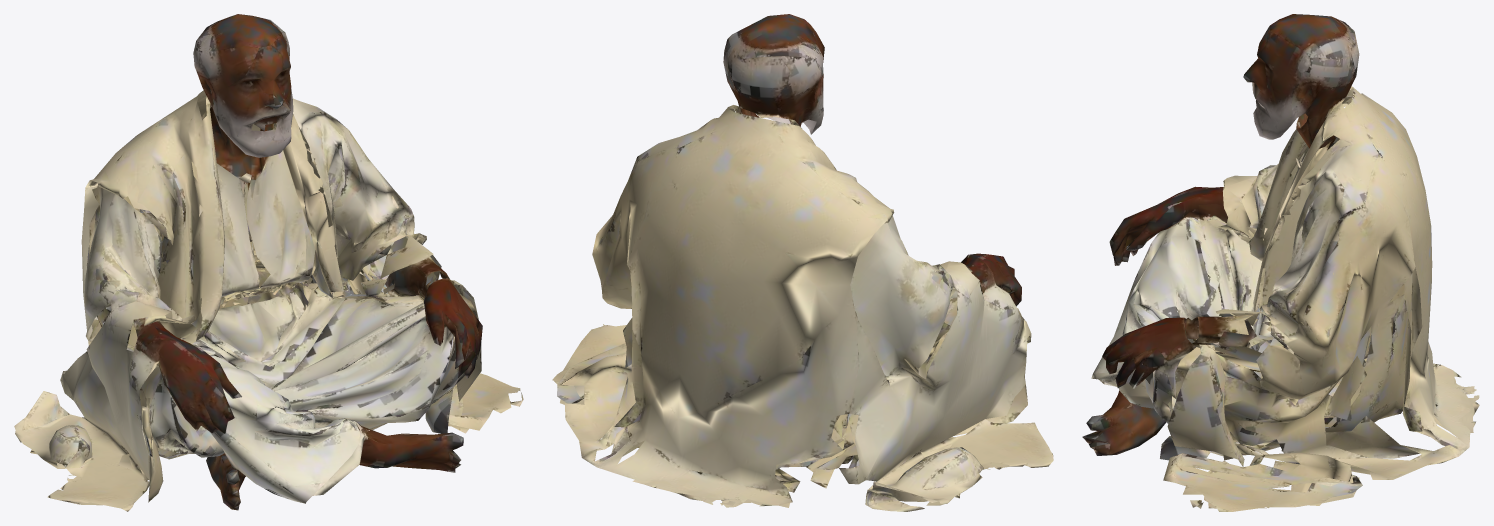
Rendered from elderC.glb.
The picture shows the model from 3 angles, left to right: view 1: azimuth 30°, elevation 25°; view 2: azimuth 150°, elevation 25°; view 3: azimuth 270°, elevation 25°; orthographic projection. The views are drawn at different scales.
Parts seen in each view (by area): view 1: geometry_0; view 2: geometry_0; view 3: geometry_0.
Boxes of the visible parts, x1,y1,x2,y2 form: geometry_0: [14, 14, 523, 511]; geometry_0: [552, 14, 1053, 511]; geometry_0: [1082, 14, 1479, 511].
Bounding box in the file's own units: 0.9848 × 0.8183 × 0.7539.
Materials: 1 (1 with a texture image).
